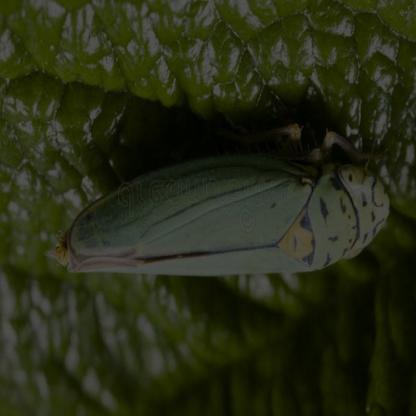green-leafhopper: (65, 146, 392, 280)
